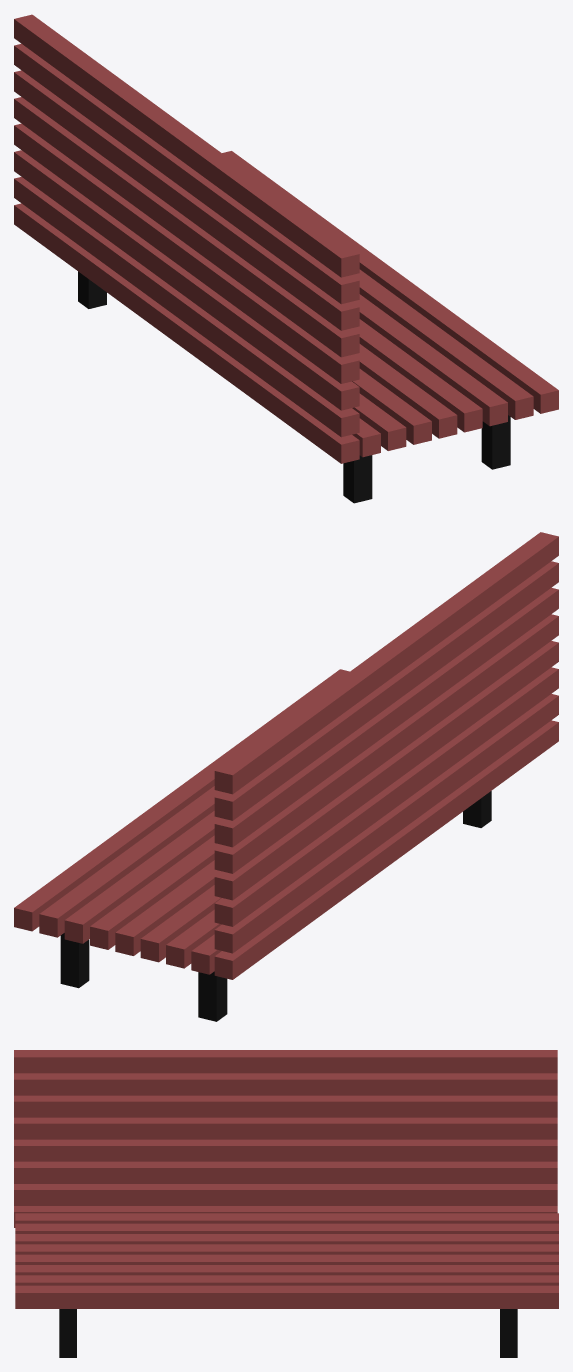
File: bench.fbx
3 views of the same model, one above another, from view 1: azimuth 30°, elevation 25°; view 2: azimuth 150°, elevation 25°; view 3: azimuth 270°, elevation 25° (orthographic). The views are drawn at different scales.
Parts seen in each view (by area): view 1: 큐브.015, 큐브.006; view 2: 큐브.015, 큐브.006; view 3: 큐브.015, 큐브.006.
Boxes of the visible parts, x1,y1,x2,y2 form: 큐브.015: (14, 14, 558, 463); 큐브.006: (78, 271, 510, 503); 큐브.015: (14, 532, 558, 979); 큐브.006: (60, 791, 491, 1021); 큐브.015: (14, 1050, 558, 1308); 큐브.006: (59, 1309, 517, 1357).
Bounding box in the file's own units: 2383 × 2862 × 6195.
